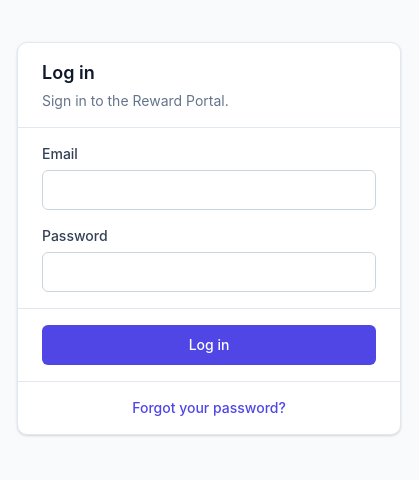
Test: LoginPage › TC-5: a 429 renders "too many attempts" with the minute count from Retry-After
Type "ada@example.com" into the field labelled "Email".
click(209, 190); type("ada@example.com")  # box x1=42 y1=170 x2=376 y2=210
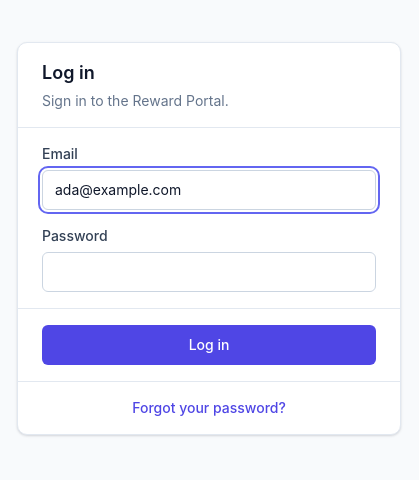
Type "CorrectHorse1!" into the password field labelled "Password".
click(209, 272); type("CorrectHorse1!")  # box x1=42 y1=252 x2=376 y2=292
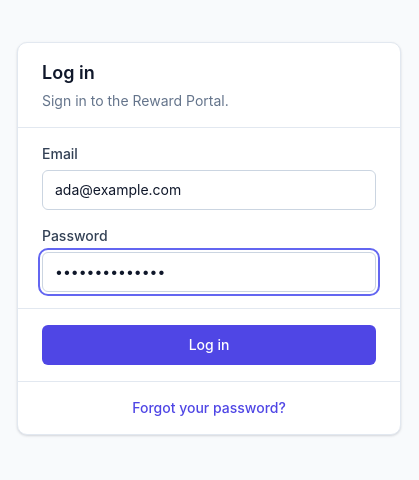
Click the button "Log in".
click(209, 344)  # box x1=42 y1=324 x2=376 y2=364
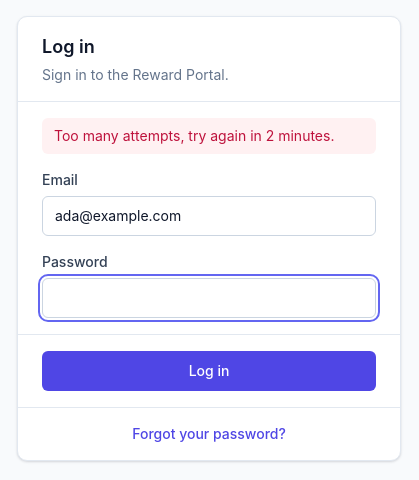
Expected: the message reads "Too many attempts, try again in 2 minutes.", x1=54 y1=126 x2=334 y2=144
